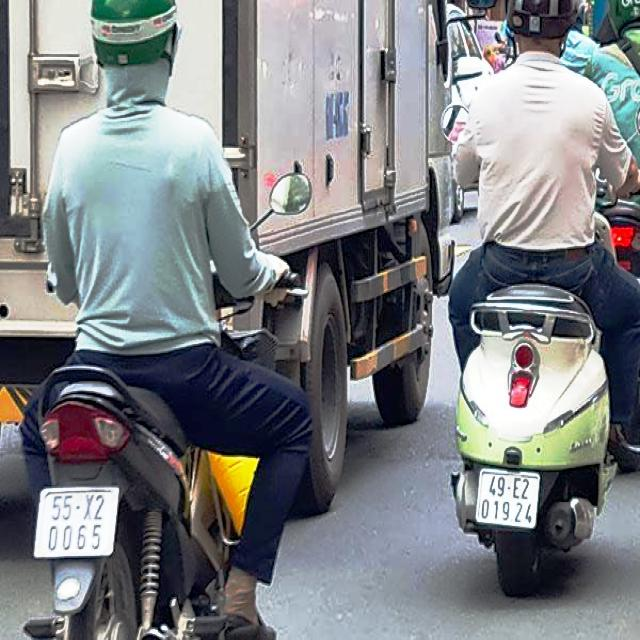license_plate: (36, 491, 115, 558), (481, 472, 540, 528)
